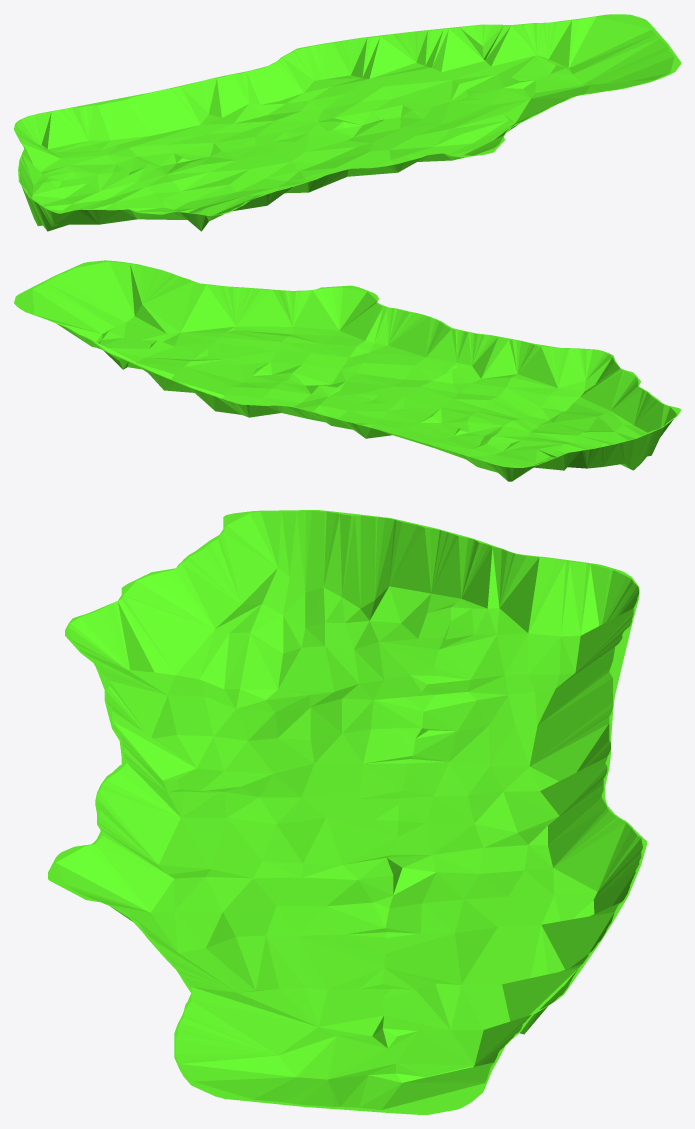
The model's file is delauney_reverse_color.gltf.
The picture shows the model from 3 angles, top to bottom: view 1: azimuth 30°, elevation 25°; view 2: azimuth 150°, elevation 25°; view 3: azimuth 270°, elevation 25°; orthographic projection. The views are drawn at different scales.
Parts seen in each view (by area): view 1: delaunay_obj_1.001; view 2: delaunay_obj_1.001; view 3: delaunay_obj_1.001.
Boxes of the visible parts, left/top/right/bottom form: delaunay_obj_1.001: left=14, top=14, right=680, bottom=231; delaunay_obj_1.001: left=14, top=260, right=680, bottom=481; delaunay_obj_1.001: left=48, top=510, right=646, bottom=1114.
Size of the model in its own units: 190 by 11.75 by 79.5.
